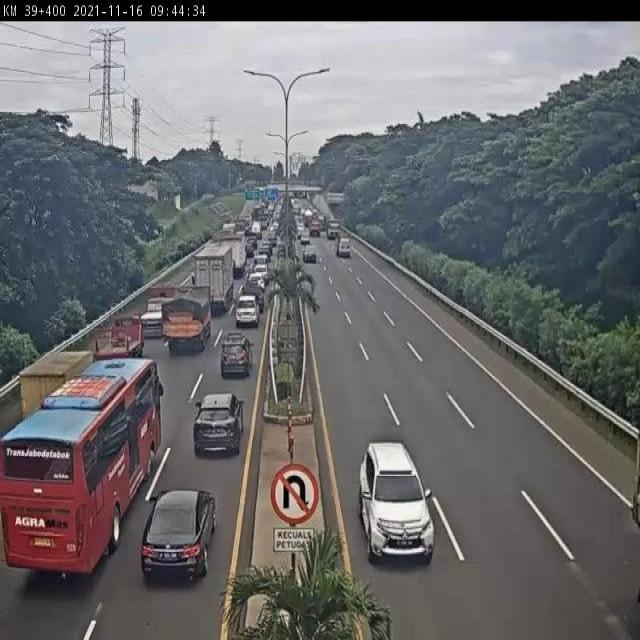Bus: (0, 356, 166, 579)
Car: (356, 441, 434, 566), (139, 488, 218, 579), (192, 390, 246, 454), (220, 331, 254, 376), (234, 294, 260, 327), (246, 272, 267, 303), (258, 240, 273, 259), (302, 245, 317, 262), (248, 233, 258, 250), (245, 241, 254, 257), (300, 231, 310, 245), (276, 246, 286, 259), (296, 224, 304, 240)
Truck: (18, 345, 93, 424), (160, 282, 214, 353), (192, 245, 235, 314), (92, 312, 145, 359), (139, 283, 176, 339), (220, 230, 247, 278), (336, 235, 350, 257), (309, 218, 322, 237), (327, 221, 339, 240), (251, 220, 262, 237)
